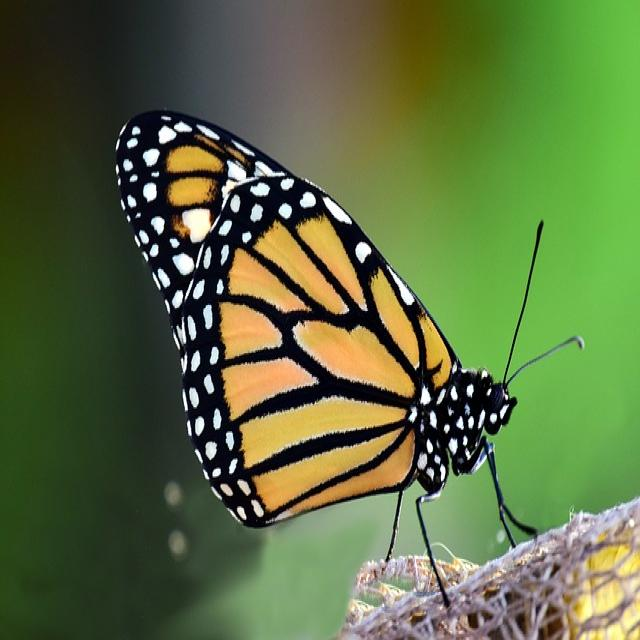butterfly: (116, 113, 515, 527)
